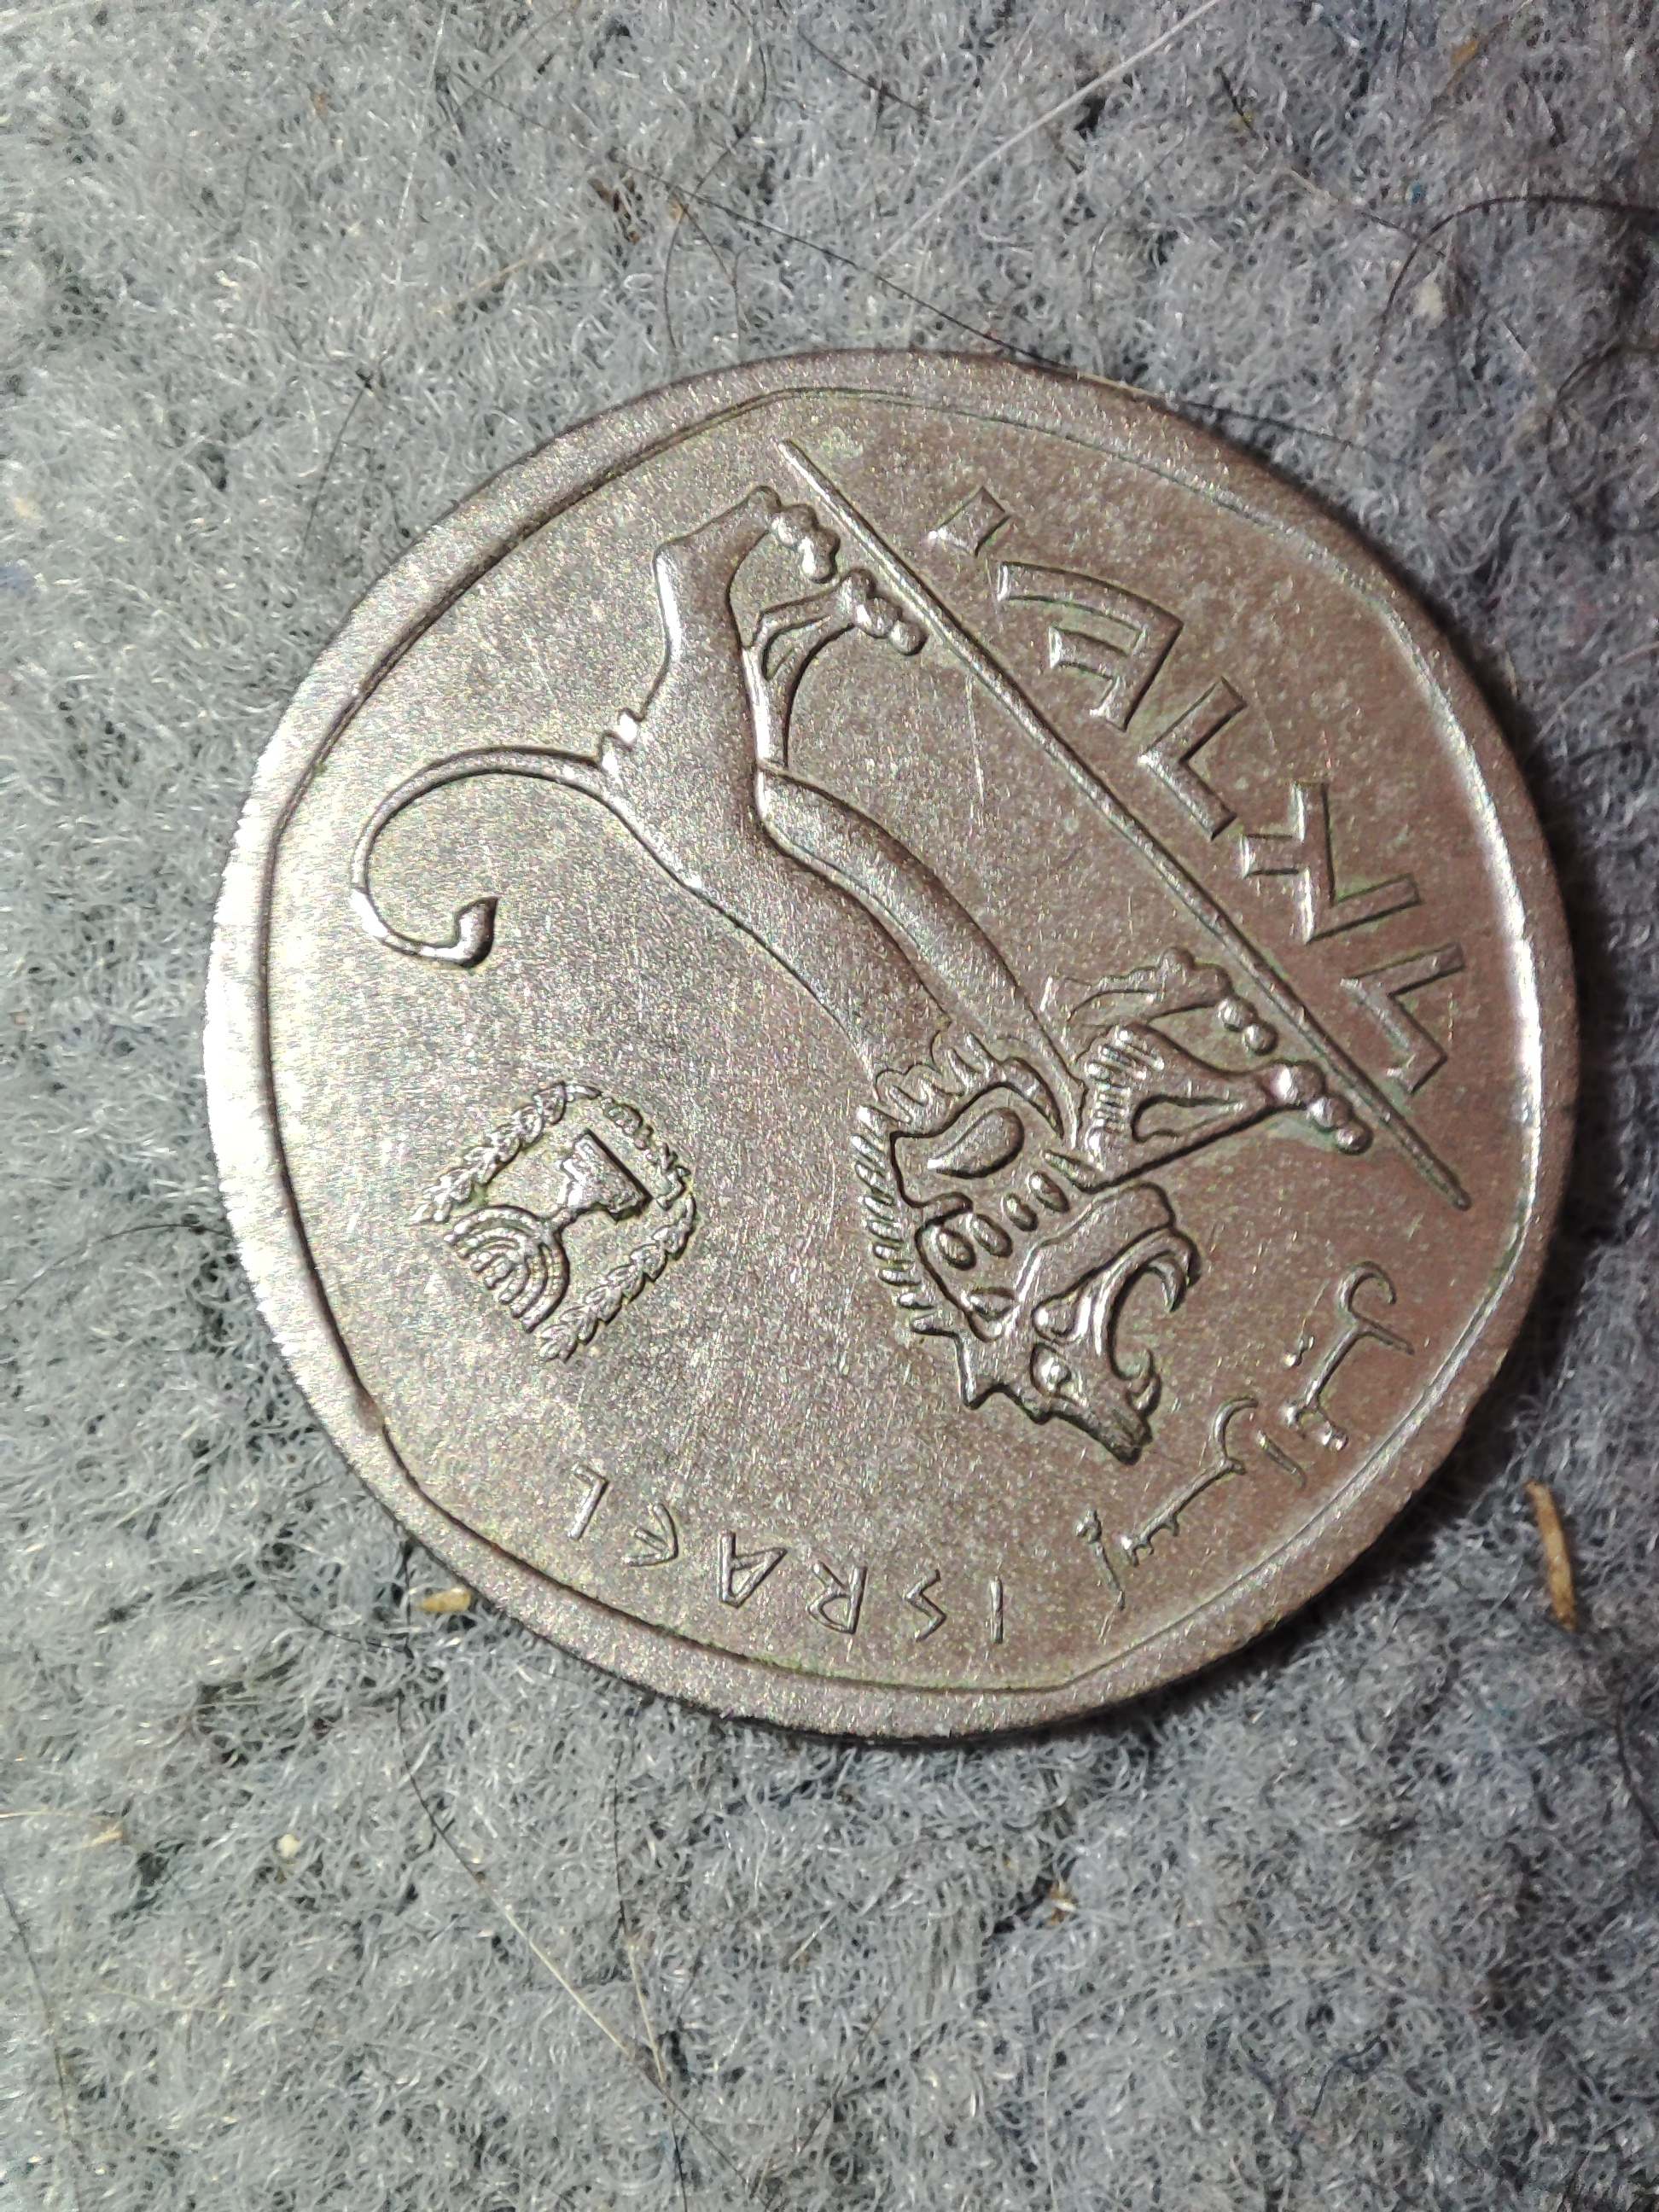1/2 old sheqel: (192, 340, 1600, 1761)
